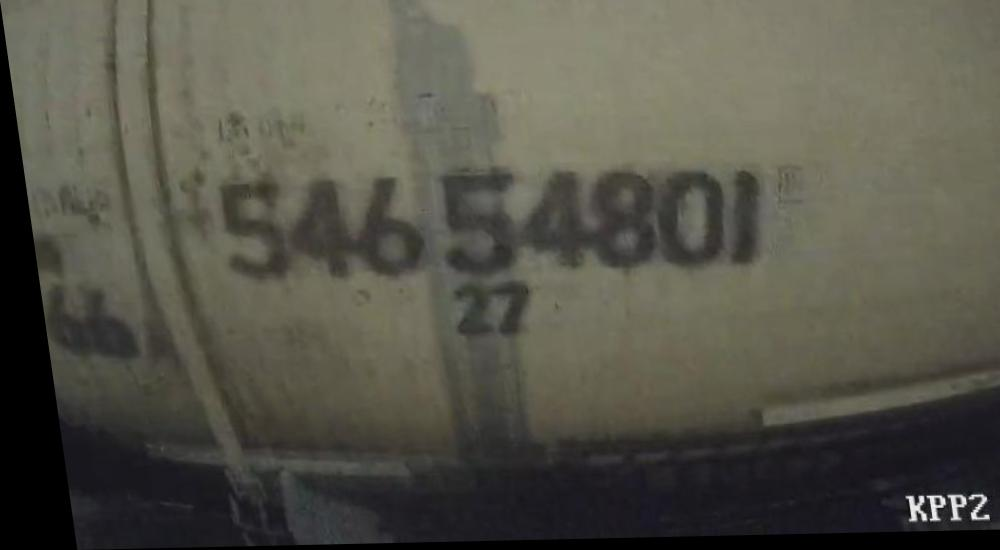Wagon-number: (205, 163, 768, 288)
